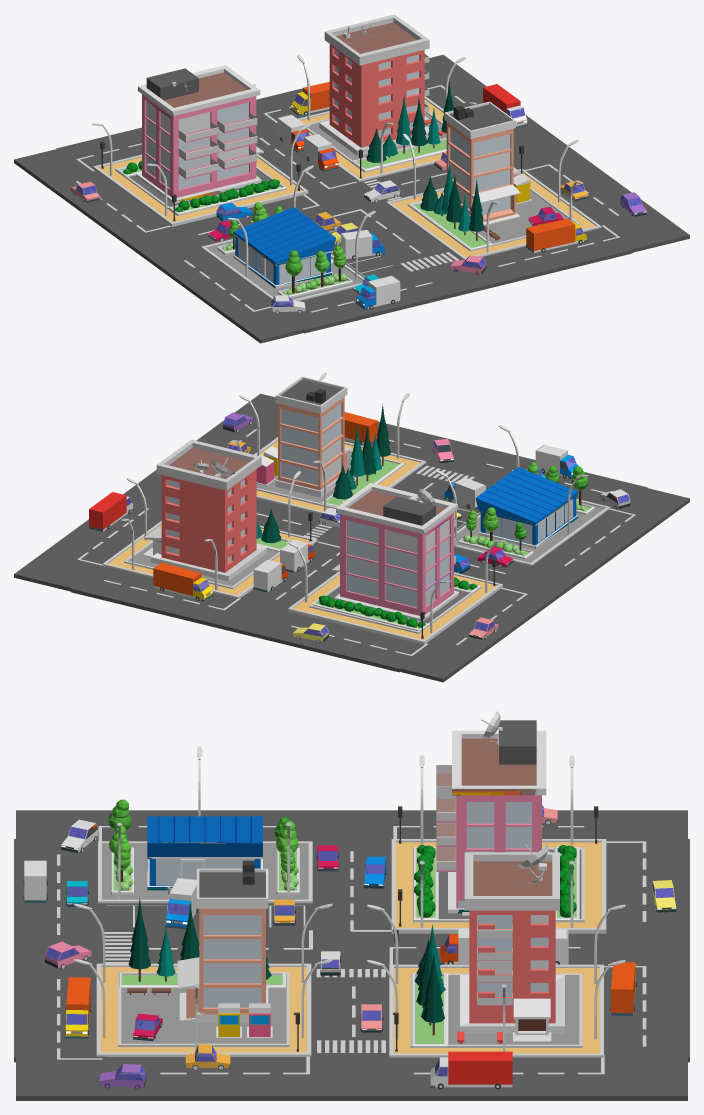
Rendered from City 5.glb.
3 renders of one model, top to bottom at view 1: azimuth 30°, elevation 25°; view 2: azimuth 150°, elevation 25°; view 3: azimuth 270°, elevation 25°, orthographic. The views are drawn at different scales.
Parts seen in each view (by area): view 1: Houses, Road, Cars, Glass_House_Windows_1, Fauna, Street_Lamps, Car_Windows, Glass_House_Windows_Lit; view 2: Road, Houses, Cars, Glass_House_Windows_1, Fauna, Street_Lamps, Glass_House_Windows_Lit, Car_Windows, Antennae; view 3: Road, Houses, Cars, Glass_House_Windows_1, Fauna, Street_Lamps, Car_Windows, Glass_House_Windows_Lit, Antennae, Traffic_Lights.
Part boxes in pixels (x1=…): Houses: x1=93, y1=14, x2=601, y2=305; Road: x1=14, y1=54, x2=689, y2=343; Cars: x1=71, y1=82, x2=646, y2=313; Glass_House_Windows_1: x1=146, y1=49, x2=510, y2=284; Fauna: x1=123, y1=81, x2=484, y2=294; Street_Lamps: x1=92, y1=54, x2=582, y2=279; Car_Windows: x1=76, y1=94, x2=641, y2=306; Glass_House_Windows_Lit: x1=146, y1=88, x2=510, y2=208; Road: x1=14, y1=393, x2=689, y2=682; Houses: x1=102, y1=376, x2=610, y2=644; Cars: x1=89, y1=412, x2=630, y2=642; Glass_House_Windows_1: x1=167, y1=403, x2=573, y2=607; Fauna: x1=256, y1=404, x2=588, y2=627; Street_Lamps: x1=121, y1=372, x2=588, y2=632; Glass_House_Windows_Lit: x1=167, y1=438, x2=449, y2=554; Car_Windows: x1=126, y1=416, x2=629, y2=636; Antennae: x1=193, y1=458, x2=434, y2=505; Road: x1=14, y1=810, x2=689, y2=1100; Houses: x1=96, y1=720, x2=606, y2=1057; Cars: x1=23, y1=805, x2=676, y2=1089; Glass_House_Windows_1: x1=156, y1=802, x2=548, y2=1007; Fauna: x1=108, y1=799, x2=576, y2=1035; Street_Lamps: x1=74, y1=746, x2=625, y2=1051; Car_Windows: x1=45, y1=805, x2=673, y2=1080; Glass_House_Windows_Lit: x1=466, y1=851, x2=548, y2=974; Antennae: x1=481, y1=711, x2=548, y2=883; Traffic_Lights: x1=294, y1=806, x2=598, y2=1051.
Size of the model in its own units: 2192 by 609 by 2192.
Materials: 8 (1 with a texture image).
